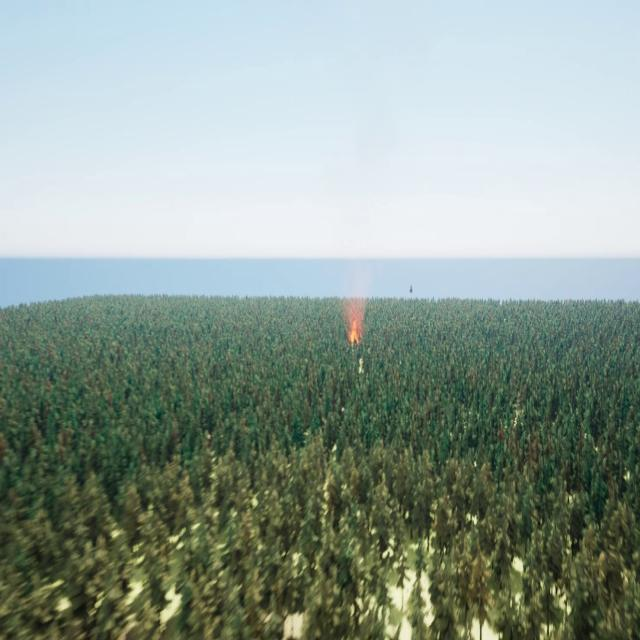fire: (347, 318, 361, 344)
smoke: (343, 281, 367, 332)
